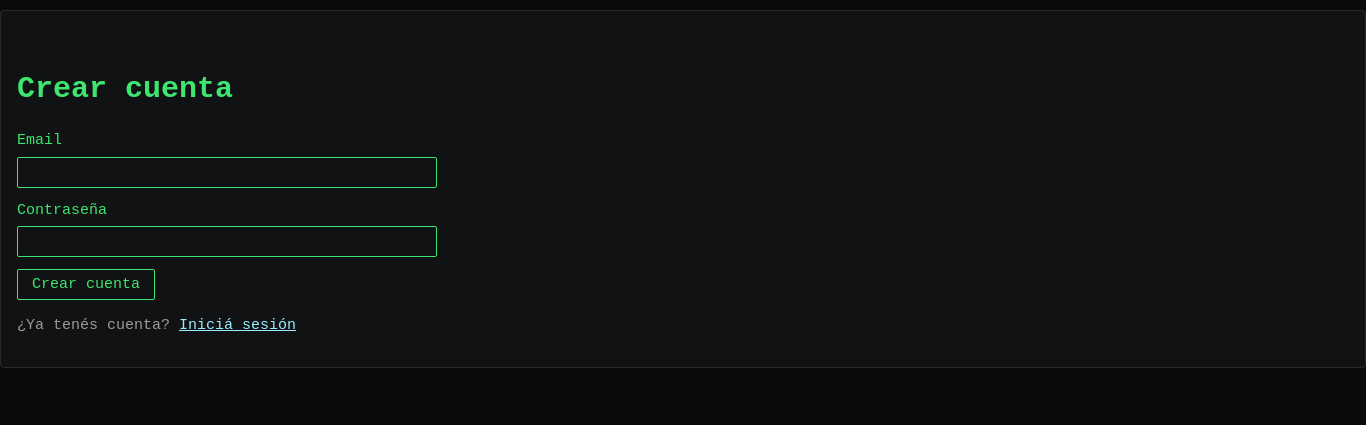
it: RegisterPage › shows_a_validation_error_and_does_not_call_the_api_when_the_password_is_too_short
In the field labelled "Email": [227, 172] box 17,156 -> 437,188, type "ana@example.com"
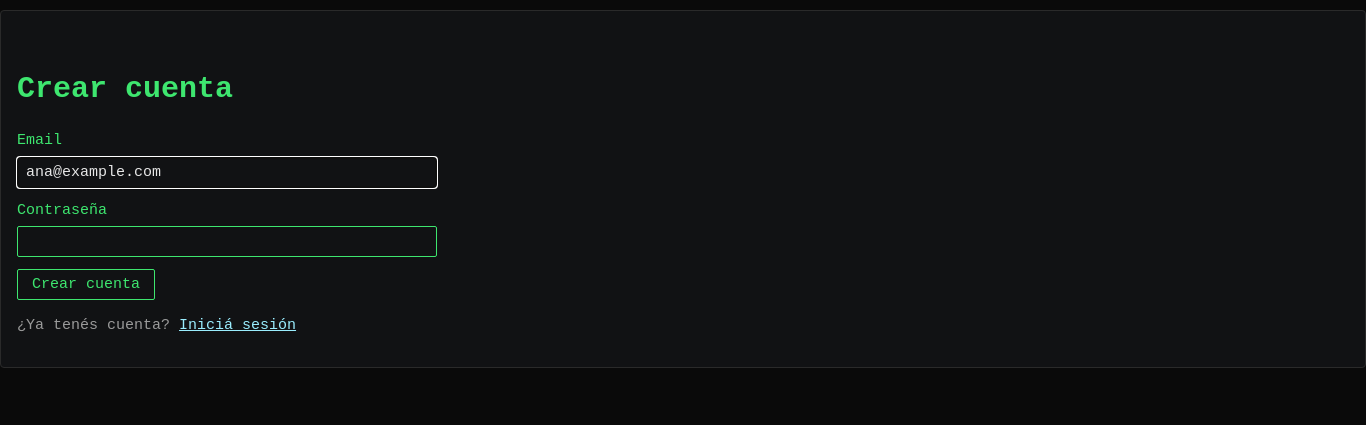
In the password field labelled "Contraseña": [227, 242] box 17,226 -> 437,257, type "short1"
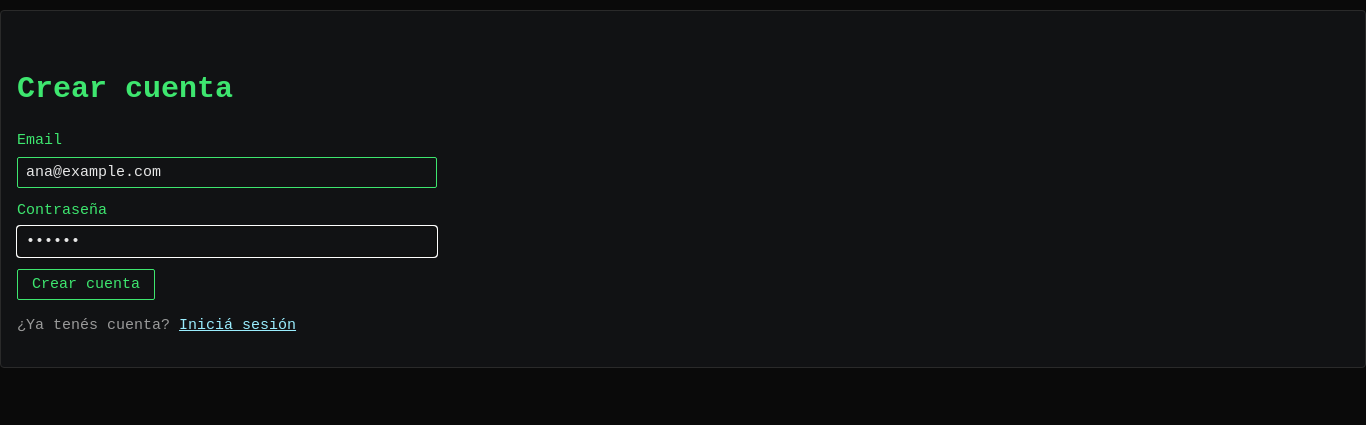
Click the button "Crear cuenta": [86, 284] box 17,269 -> 155,300
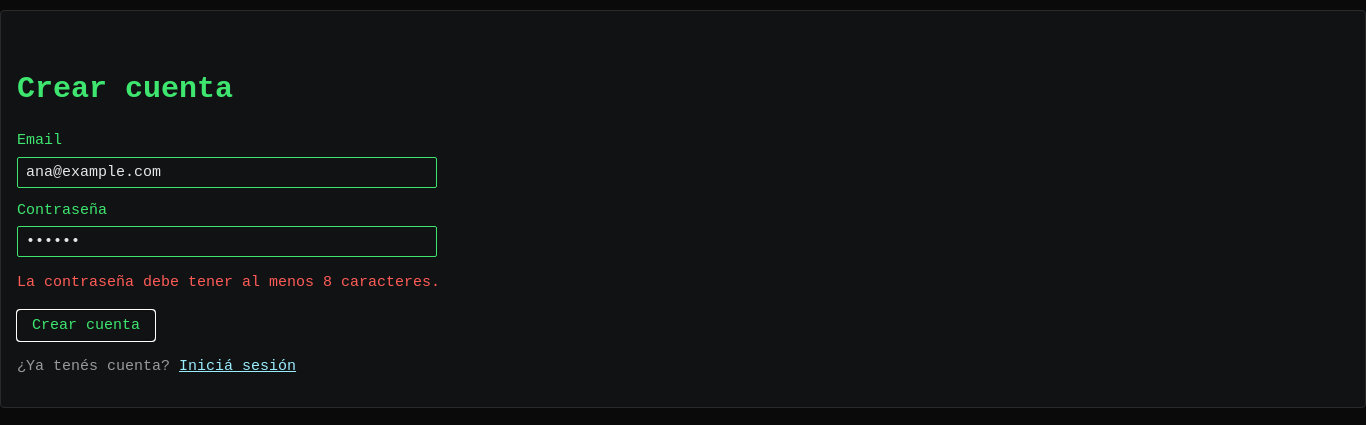
Expected: the message reads "La contraseña debe tener al menos 8 caracteres.", 17,274 -> 440,291
